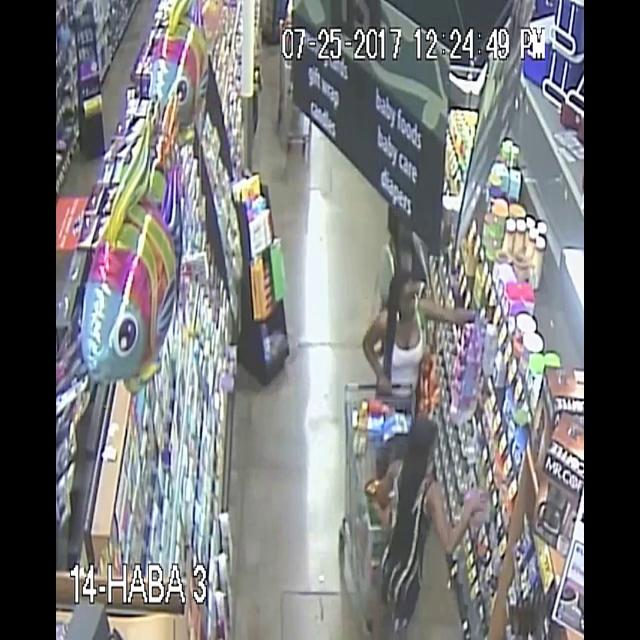Product: (466, 486, 494, 528)
normal: (357, 195, 461, 412)
shoplifting: (372, 413, 516, 640)
